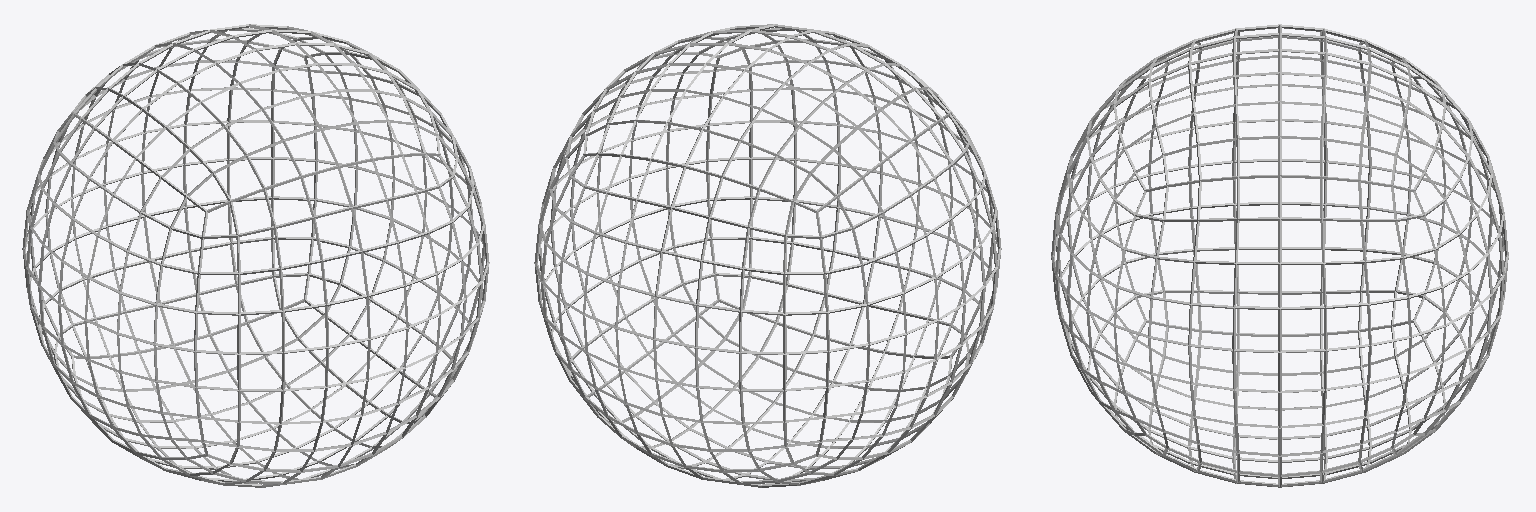
File: SphereCuboidWireframe.obj
The picture shows the model from 3 angles: view 1: azimuth 30°, elevation 25°; view 2: azimuth 150°, elevation 25°; view 3: azimuth 270°, elevation 25°; orthographic projection.
Parts seen in each view (by area): view 1: Cube.001; view 2: Cube.001; view 3: Cube.001.
Part boxes in pixels (left/top/right/bottom): Cube.001: left=22, top=24, right=489, bottom=487; Cube.001: left=534, top=24, right=1001, bottom=487; Cube.001: left=1051, top=24, right=1508, bottom=487.
Bounding box in the file's own units: 204 × 204 × 204.